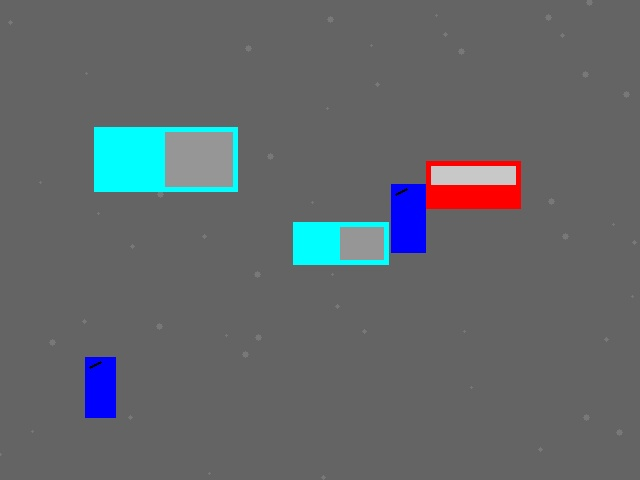car: (426, 161, 520, 208)
motorcycle: (391, 184, 425, 252), (85, 357, 115, 417)
truck: (94, 127, 237, 191), (293, 222, 388, 264)
